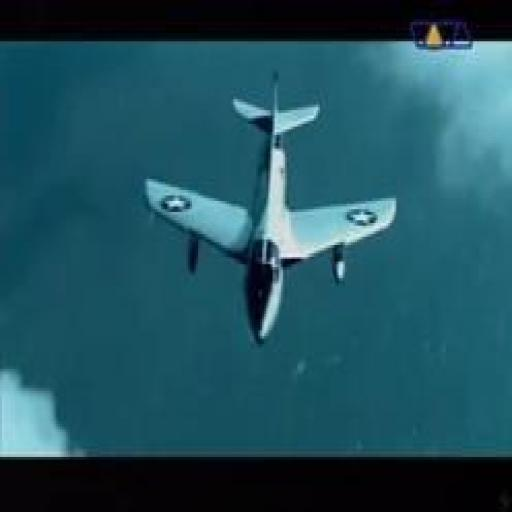aircraft: (141, 69, 397, 347)
